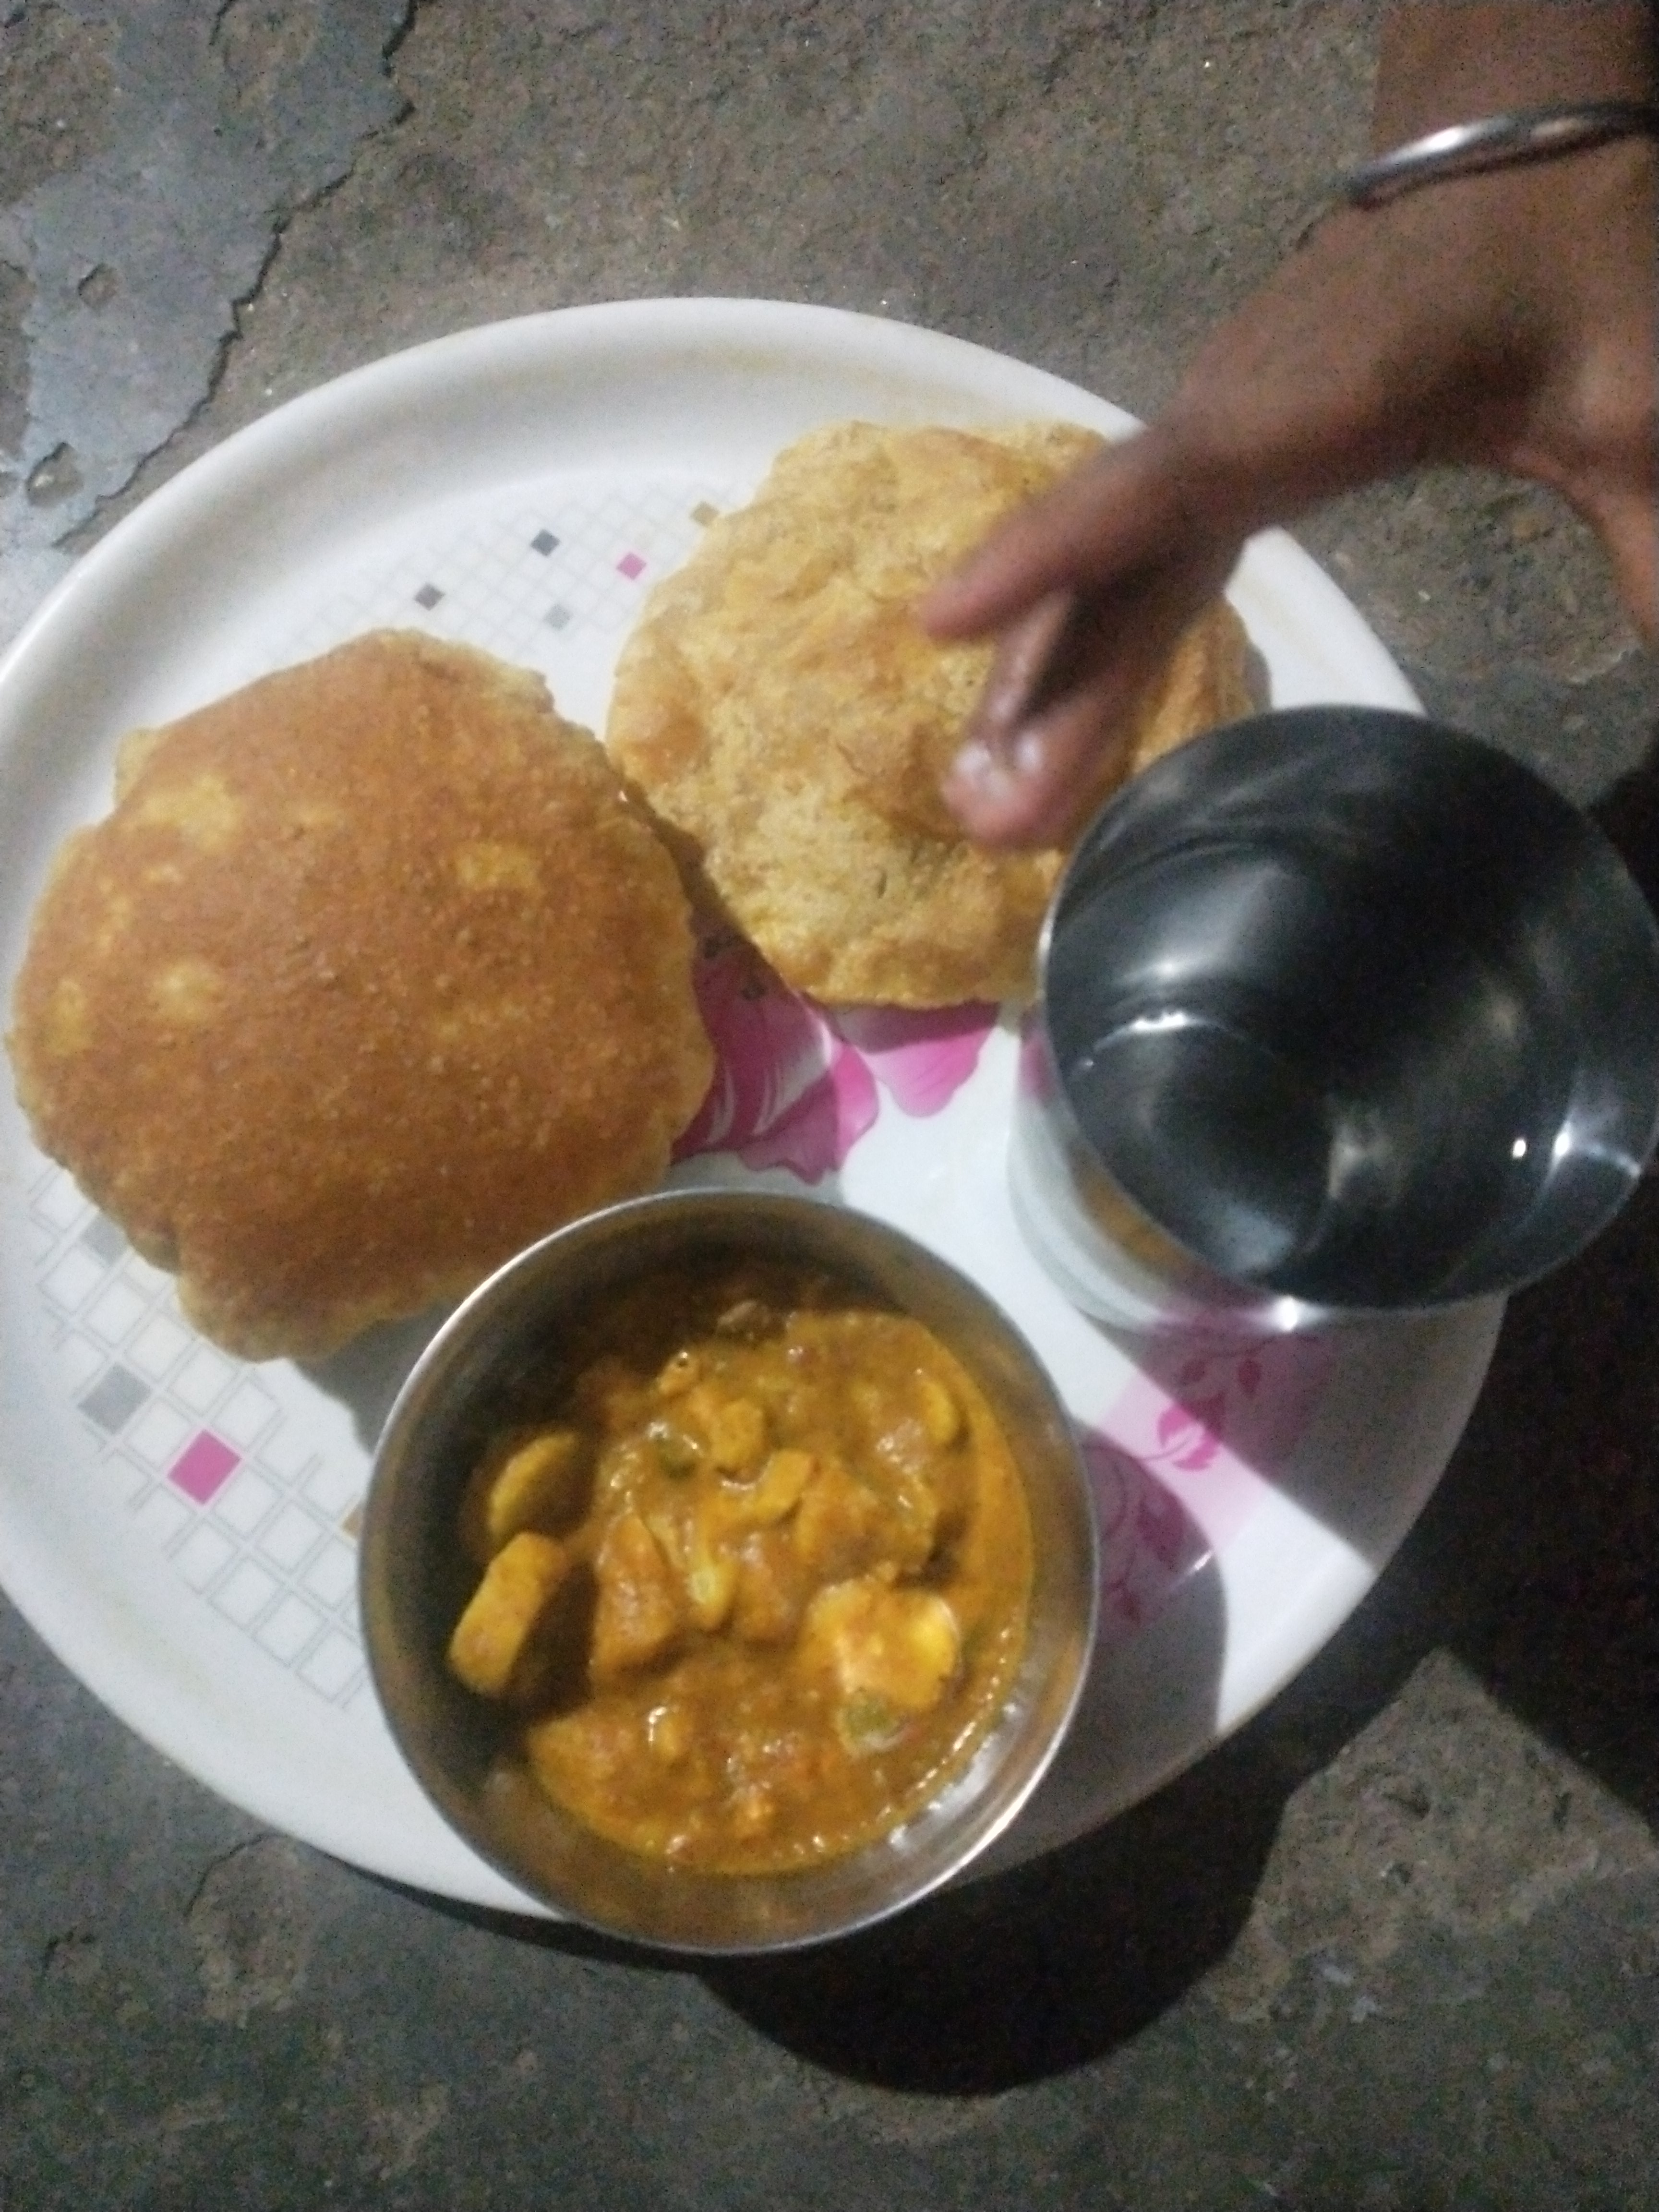food: (2, 404, 1657, 1904)
